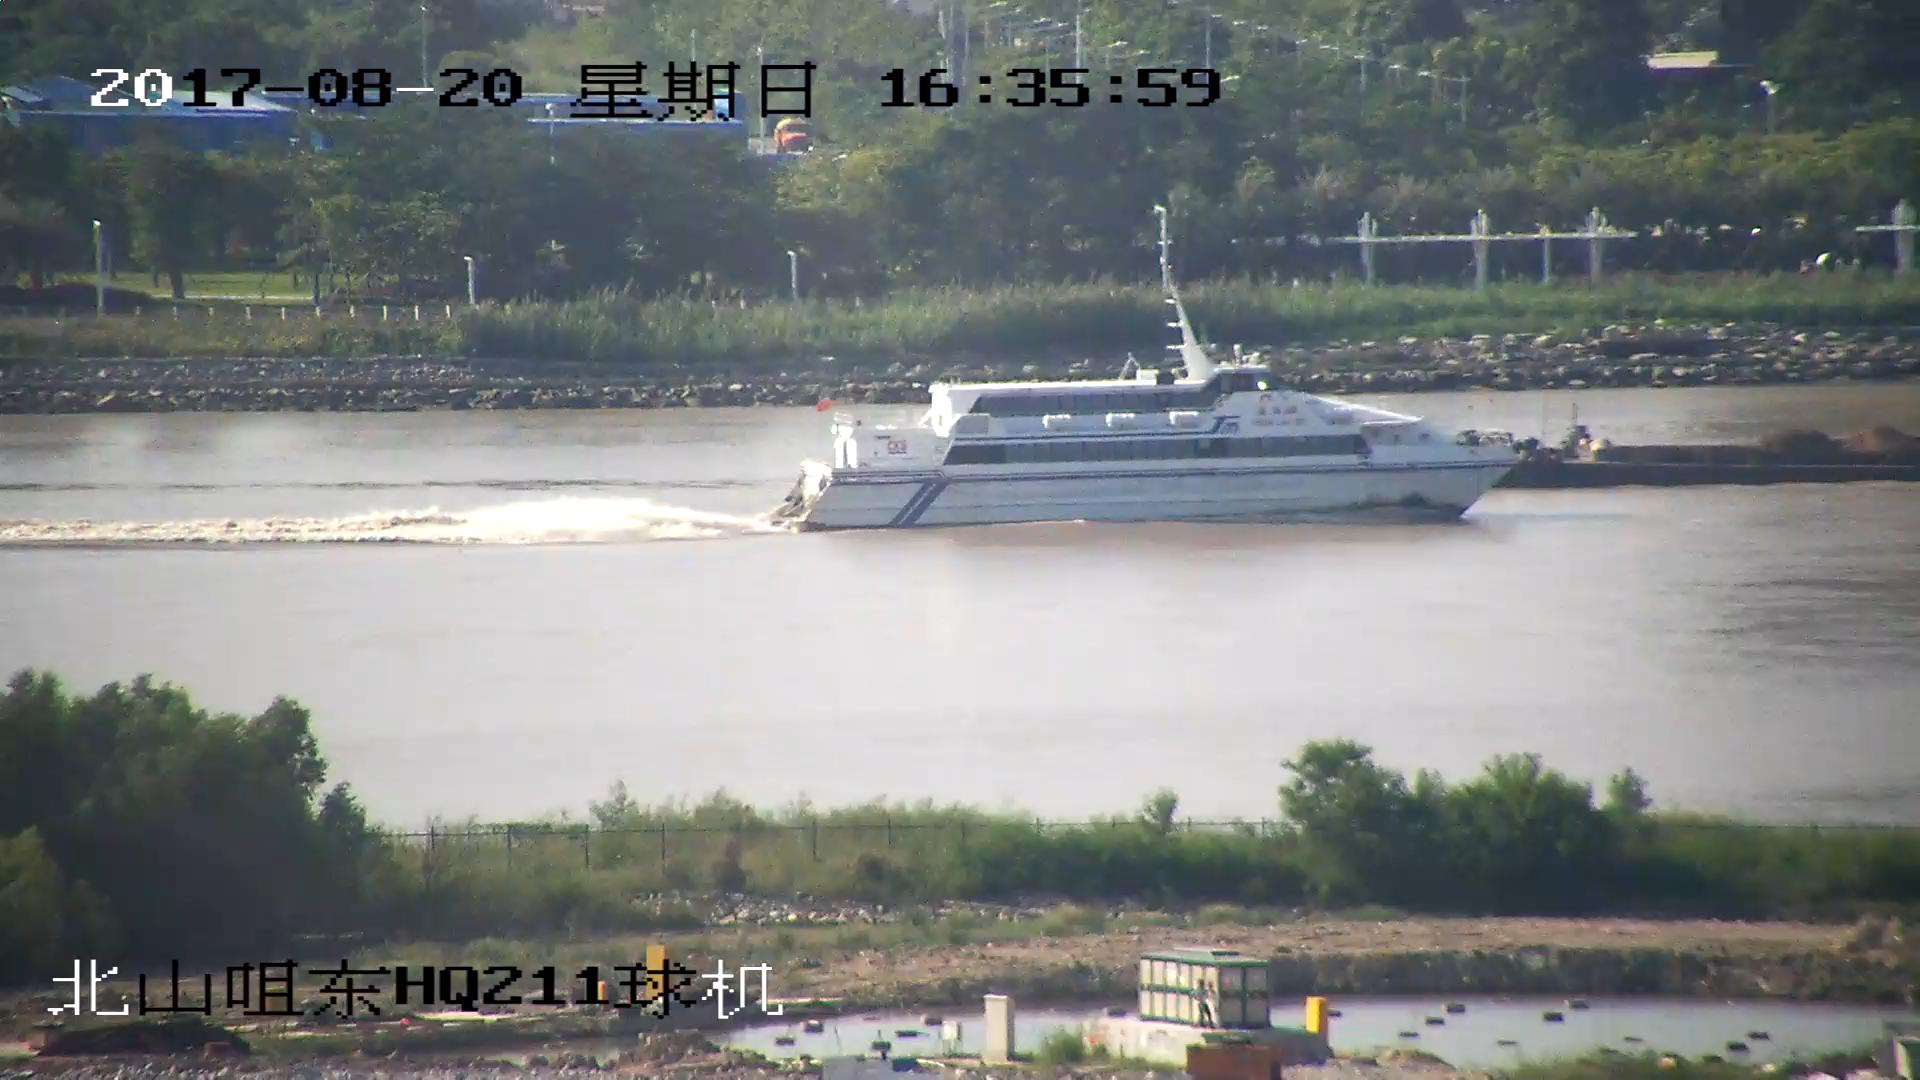ore carrier: (1459, 418, 1920, 489)
passenger ship: (772, 274, 1521, 527)
